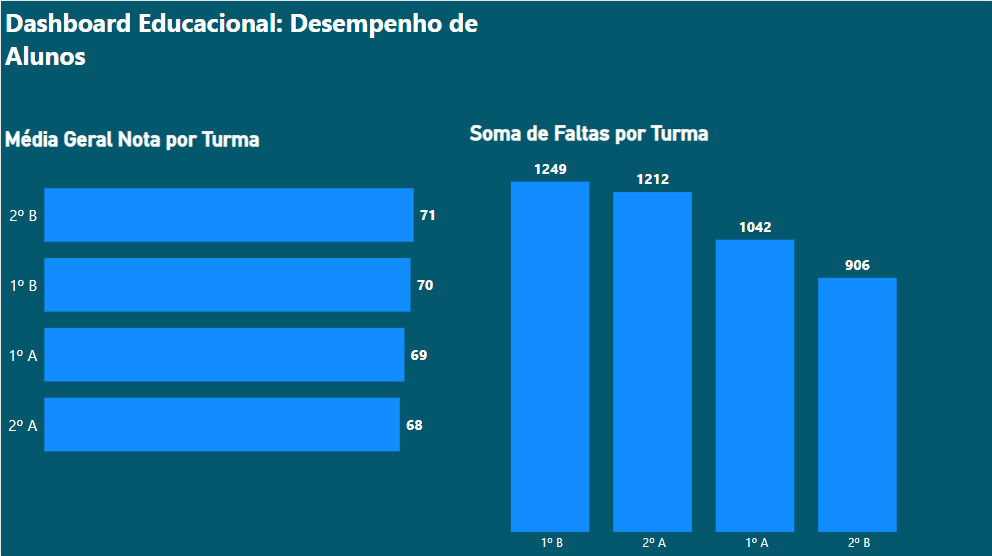

Layout of this report page (visuals, bound fields, positions):
{"tool":"powerbi","page":{"name":"Página 3","canvas":[1280,720],"ordinal":2},"visuals":[{"type":"clusteredBarChart","fields":{"Category":["Dashboard_Educacional_PowerBI.Turma"],"Y":["Medidas.Média Geral Nota"]},"box":[0,162.8,584.7,463],"z":0},{"type":"textbox","box":[0,0,640,123.4],"z":1},{"type":"columnChart","title":"Soma de Faltas por Turma","fields":{"Category":["Dashboard_Educacional_PowerBI.Turma"],"Y":["Sum(Dashboard_Educacional_PowerBI.Faltas Ajustadas)"]},"box":[600.3,154.7,618.6,565.7],"z":2}]}

Visuals, with their boxes in screenshot pixels (x1, y1, x2, y2), scaled from the page's 1280x720 canvas onto the 992x556 screenshot:
clusteredBarChart - Dashboard_Educacional_PowerBI.Turma x Medidas.Média Geral Nota: select_region(0, 126, 453, 483)
textbox: select_region(0, 0, 496, 95)
"Soma de Faltas por Turma" columnChart: select_region(465, 119, 945, 555)
